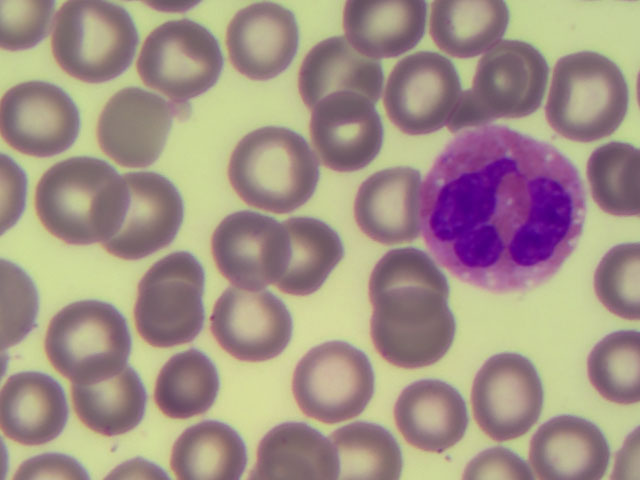Platelets: (170, 95, 196, 125)
RBC: (41, 156, 124, 243), (100, 174, 183, 261), (88, 84, 171, 171), (138, 11, 221, 98), (212, 4, 295, 91), (233, 126, 316, 213), (302, 98, 385, 185), (301, 31, 384, 118), (380, 48, 463, 135), (460, 40, 543, 127), (549, 51, 632, 138), (528, 393, 611, 480), (464, 350, 547, 437), (393, 369, 476, 456), (368, 300, 451, 387), (363, 233, 446, 320), (342, 165, 425, 252), (277, 213, 360, 300), (216, 205, 299, 292), (207, 278, 290, 365), (128, 252, 211, 339), (46, 291, 129, 378), (65, 364, 148, 451), (139, 349, 222, 436), (170, 393, 253, 480), (244, 393, 327, 480), (322, 393, 405, 480), (293, 328, 376, 415), (52, 1, 135, 87), (1, 81, 83, 168), (1, 360, 83, 447), (426, 1, 513, 55), (341, 1, 428, 55), (581, 326, 640, 401), (581, 142, 640, 217), (594, 232, 640, 315), (1, 257, 39, 343), (461, 437, 529, 480), (1, 1, 54, 50)
WBC: (423, 127, 585, 294)
